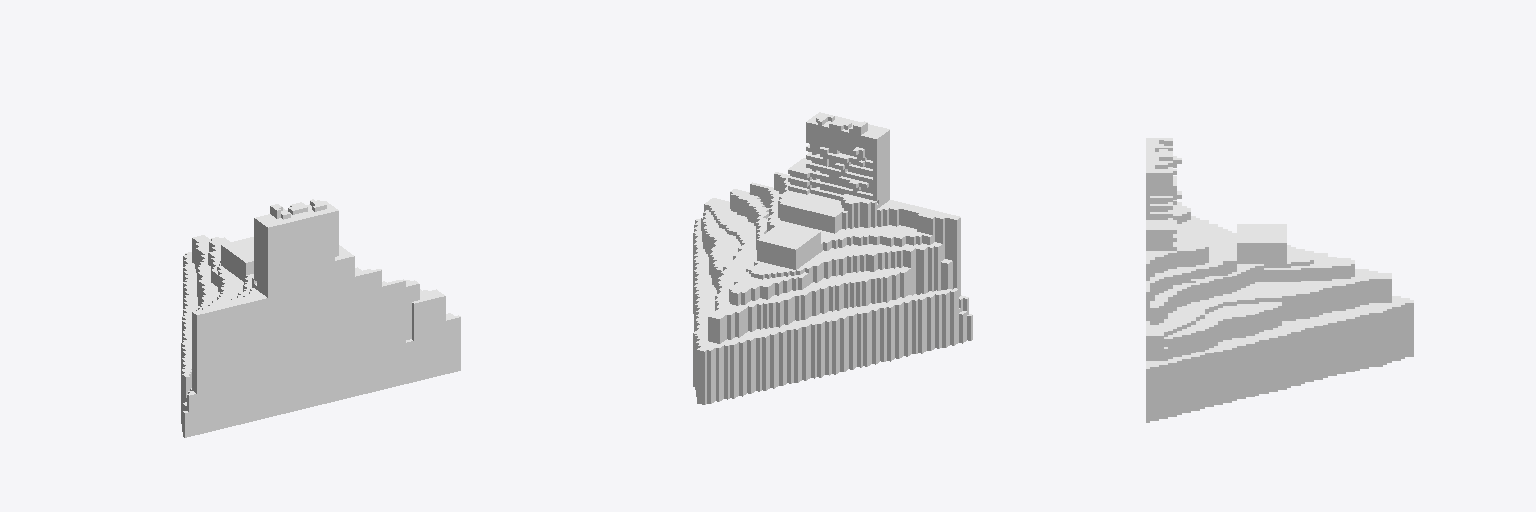
The model's file is Mountain(Anjali).vox.obj.
3 renders of one model, left to right at view 1: azimuth 30°, elevation 25°; view 2: azimuth 150°, elevation 25°; view 3: azimuth 270°, elevation 25°, orthographic.
Parts seen in each view (by area): view 1: object 1; view 2: object 1; view 3: object 1.
Part boxes in pixels (left/top/right/bottom): object 1: left=181, top=199, right=460, bottom=437; object 1: left=693, top=112, right=972, bottom=404; object 1: left=1146, top=138, right=1413, bottom=422.
Bounding box in the file's own units: 7 × 4.8 × 5.9.